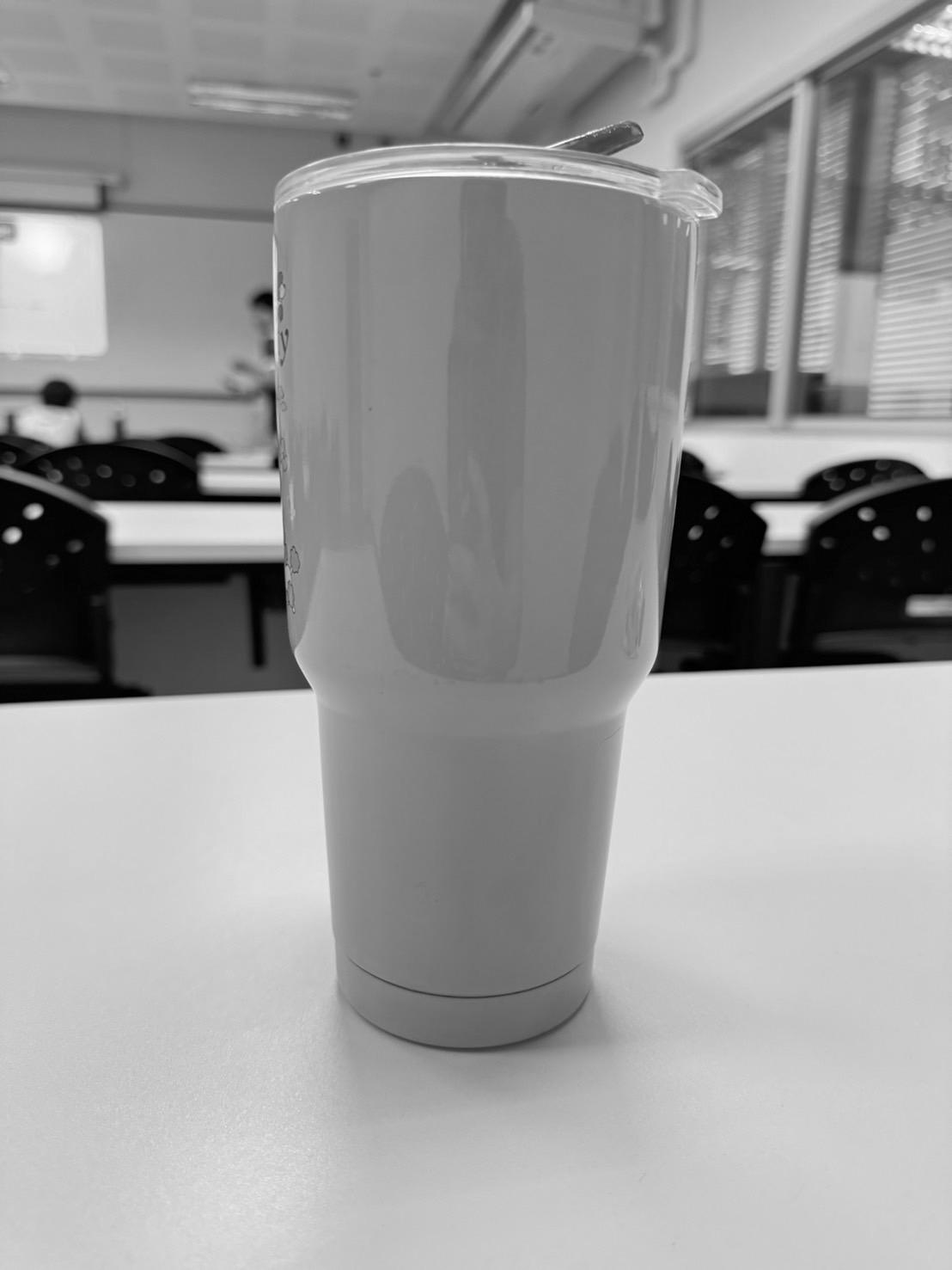glass: (274, 123, 721, 1049)
